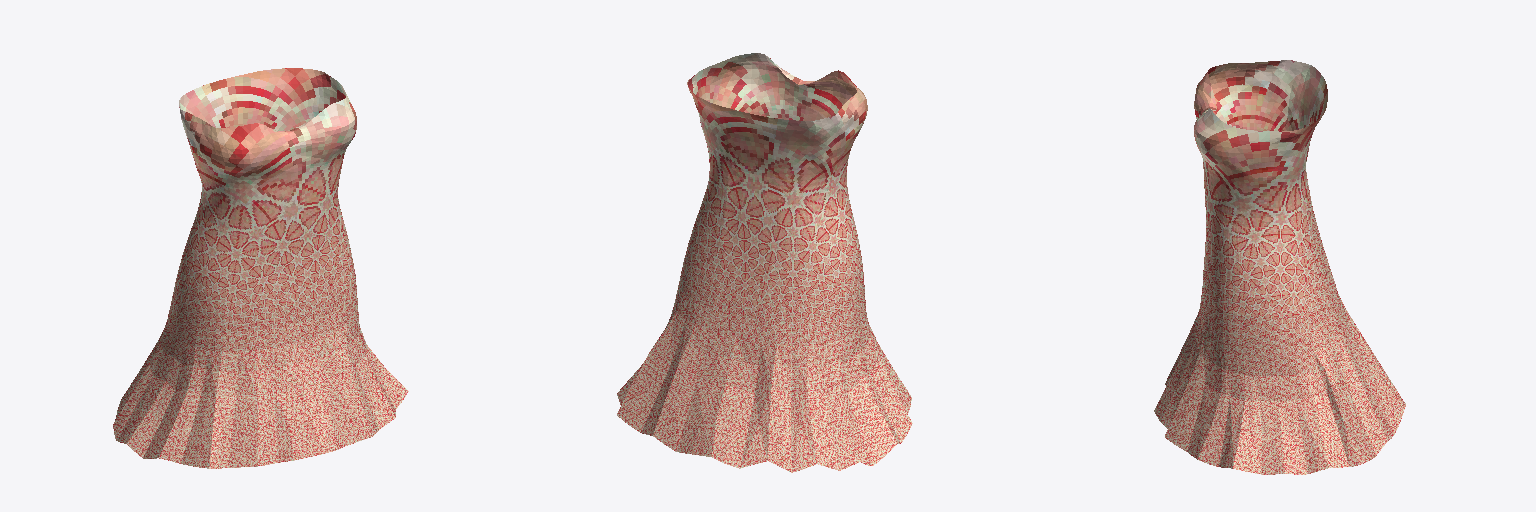
The picture shows the model from 3 angles: view 1: azimuth 30°, elevation 25°; view 2: azimuth 150°, elevation 25°; view 3: azimuth 270°, elevation 25°; orthographic projection.
Parts seen in each view (by area): view 1: Dress_Form.002; view 2: Dress_Form.002; view 3: Dress_Form.002.
Boxes of the visible parts, <box> form: Dress_Form.002: <box>113,68,408,468</box>; Dress_Form.002: <box>617,53,912,472</box>; Dress_Form.002: <box>1154,60,1405,474</box>.
Bounding box in the file's own units: 0.451 × 0.5579 × 0.3802.
1 materials, 1 textured.